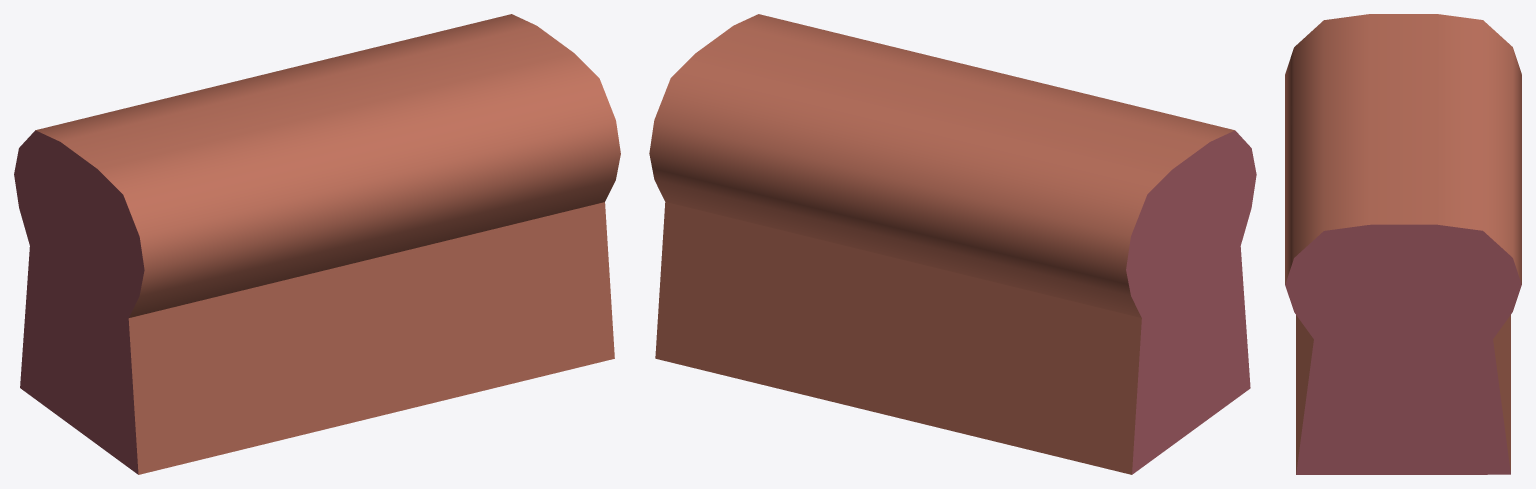
The model's file is SM_Bread_01.fbx.
3 renders of one model, left to right at view 1: azimuth 30°, elevation 25°; view 2: azimuth 150°, elevation 25°; view 3: azimuth 270°, elevation 25°, orthographic. The views are drawn at different scales.
Visible parts, largest first — view 1: SM_Bread_01; view 2: SM_Bread_01; view 3: SM_Bread_01.
Part boxes in pixels (bbox=[...]): SM_Bread_01: bbox=[14, 14, 620, 474]; SM_Bread_01: bbox=[649, 14, 1256, 474]; SM_Bread_01: bbox=[1285, 14, 1521, 474].
Size of the model in its own units: 22.94 by 12.7 by 10.89.
